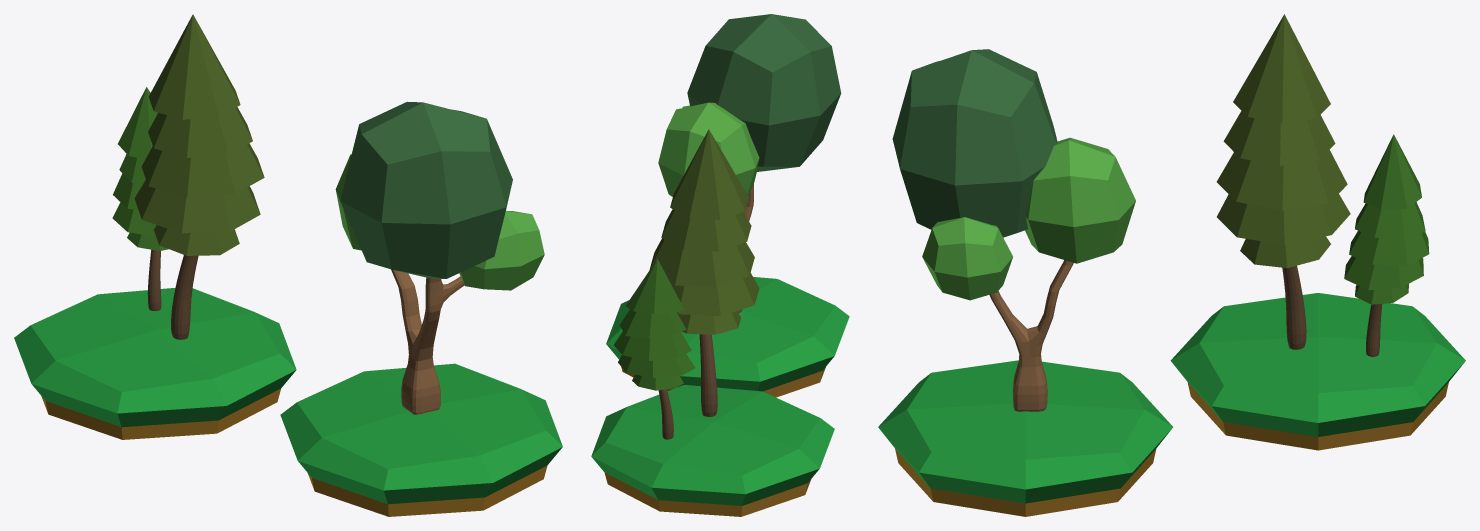
Rendered from trees.fbx.
3 renders of one model, left to right at view 1: azimuth 30°, elevation 25°; view 2: azimuth 150°, elevation 25°; view 3: azimuth 270°, elevation 25°, orthographic. The views are drawn at different scales.
Visible parts, largest first — view 1: Cube.005, Cube, Cube.004, Cone.003, Cube.001, Cube.003, Cone.000, Cube.006, Cube.007, Cube.002; view 2: Cube.005, Cube.004, Cone.003, Cube, Cone.000, Cube.002, Cube.006, Cube.007; view 3: Cube, Cube.005, Cube.004, Cone.003, Cube.002, Cone.000, Cube.003, Cube.001, Cube.006, Cube.007.
Part boxes in pixels (x1=…): Cube.005: x1=14, y1=287, x2=296, y2=439; Cube: x1=280, y1=363, x2=562, y2=516; Cube.004: x1=340, y1=101, x2=512, y2=278; Cone.003: x1=134, y1=14, x2=264, y2=255; Cube.001: x1=391, y1=269, x2=464, y2=414; Cube.003: x1=459, y1=211, x2=544, y2=290; Cone.000: x1=112, y1=87, x2=168, y2=250; Cube.006: x1=171, y1=255, x2=198, y2=339; Cube.007: x1=147, y1=249, x2=161, y2=310; Cube.002: x1=335, y1=154, x2=361, y2=250; Cube.005: x1=591, y1=385, x2=834, y2=516; Cube.004: x1=687, y1=14, x2=841, y2=171; Cone.003: x1=649, y1=129, x2=759, y2=334; Cube: x1=606, y1=277, x2=849, y2=397; Cone.000: x1=614, y1=259, x2=695, y2=390; Cube.002: x1=658, y1=102, x2=759, y2=196; Cube.006: x1=699, y1=334, x2=717, y2=416; Cube.007: x1=658, y1=389, x2=673, y2=439; Cube: x1=878, y1=360, x2=1172, y2=516; Cube.005: x1=1170, y1=293, x2=1465, y2=450; Cube.004: x1=892, y1=49, x2=1057, y2=237; Cone.003: x1=1216, y1=14, x2=1350, y2=267; Cube.002: x1=1025, y1=137, x2=1135, y2=263; Cone.000: x1=1344, y1=134, x2=1429, y2=304; Cube.003: x1=922, y1=217, x2=1012, y2=300; Cube.001: x1=989, y1=260, x2=1073, y2=411; Cube.006: x1=1282, y1=265, x2=1306, y2=349; Cube.007: x1=1366, y1=304, x2=1382, y2=356.
Size of the model in its own units: 655 by 668 by 867.
